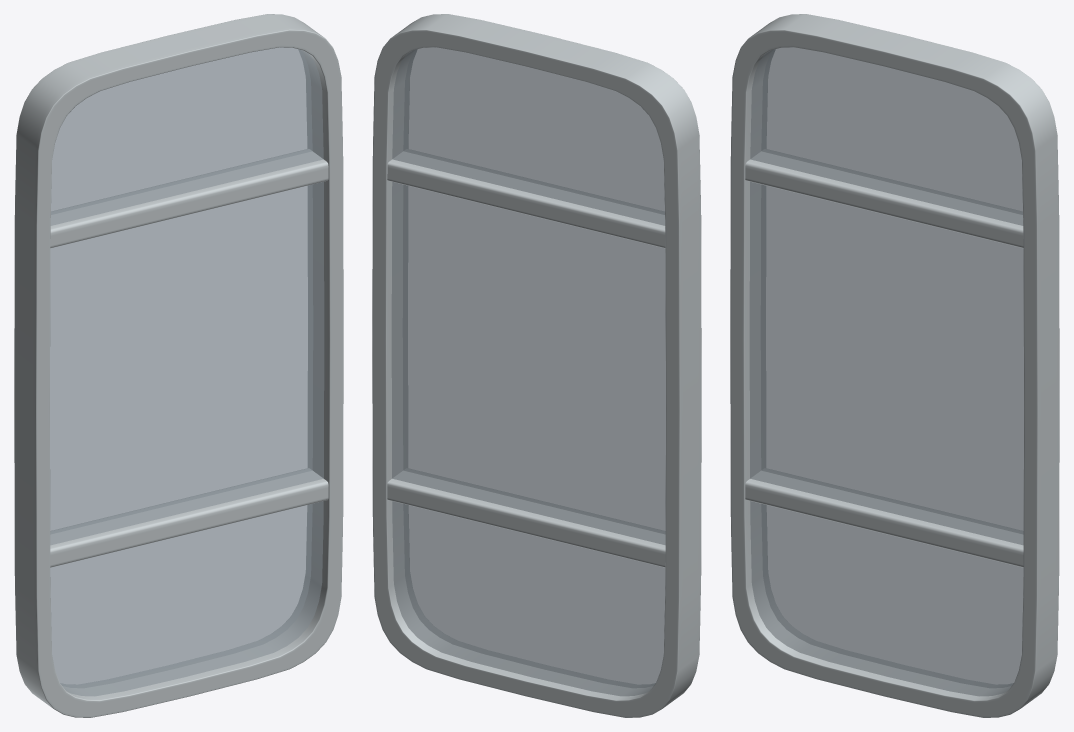
Rendered from m_prom_rectangularWindow_lod1.fbx.
3 renders of one model, left to right at view 1: azimuth 30°, elevation 25°; view 2: azimuth 150°, elevation 25°; view 3: azimuth 330°, elevation 25°, orthographic.
Visible parts, largest first — view 1: polySurface9, polySurface13; view 2: polySurface9, polySurface13; view 3: polySurface9, polySurface13.
Boxes of the visible parts, left/top/right/bottom form: polySurface9: left=50, top=47, right=324, bottom=696; polySurface13: left=14, top=14, right=343, bottom=717; polySurface9: left=391, top=47, right=665, bottom=696; polySurface13: left=372, top=14, right=701, bottom=717; polySurface9: left=749, top=47, right=1023, bottom=696; polySurface13: left=730, top=14, right=1059, bottom=717.
Size of the model in its own units: 24.19 by 48.44 by 3.
